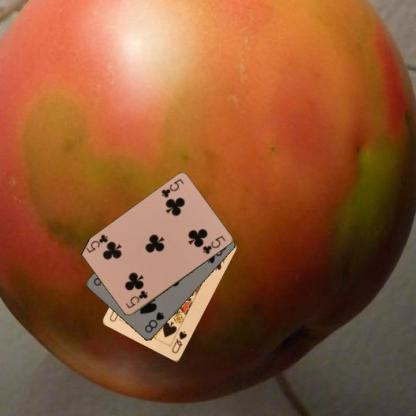5c: (159, 176, 185, 200), (123, 288, 149, 310)
8s: (142, 310, 166, 334)
Qs: (169, 329, 188, 355)
